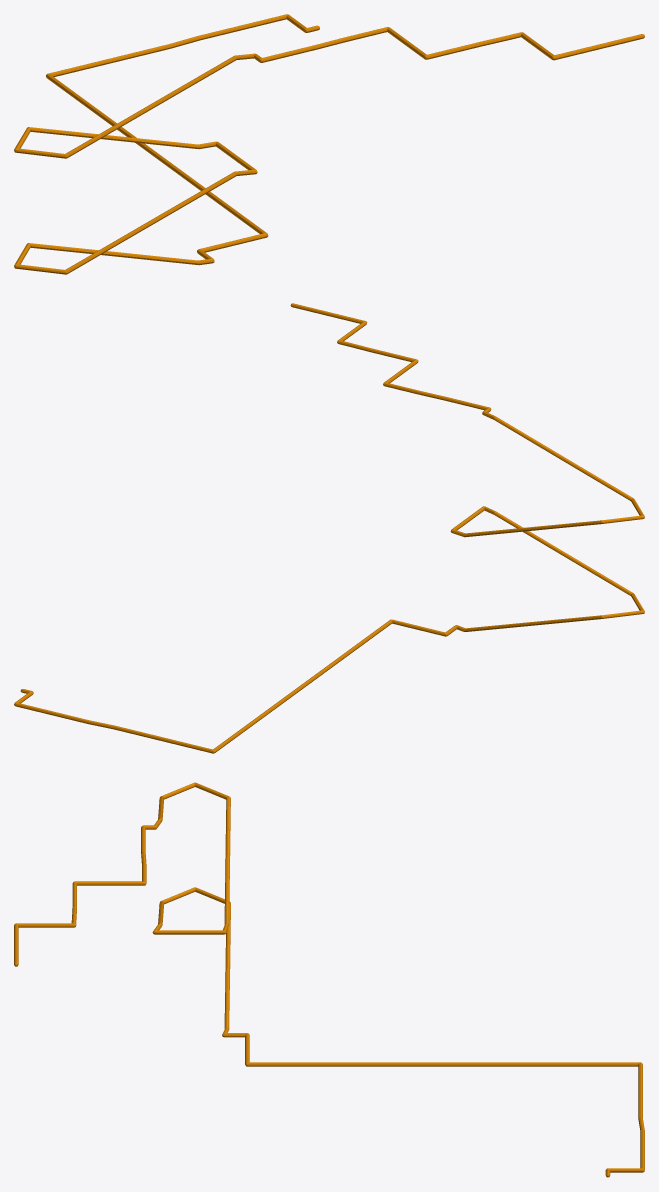
The picture shows the model from 3 angles, top to bottom: view 1: azimuth 30°, elevation 25°; view 2: azimuth 150°, elevation 25°; view 3: azimuth 270°, elevation 25°; orthographic projection. The views are drawn at different scales.
Size of the model in its own units: 2409 by 1020 by 2729.
